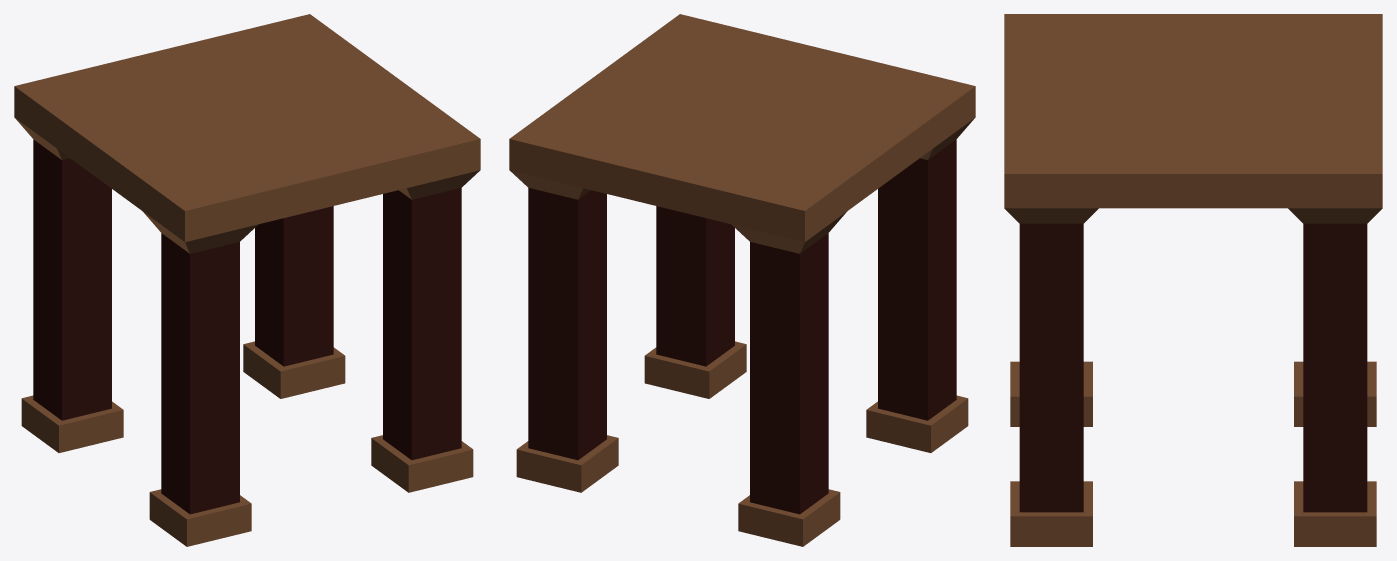
File: Square_Table - Final.fbx
3 renders of one model, left to right at view 1: azimuth 30°, elevation 25°; view 2: azimuth 150°, elevation 25°; view 3: azimuth 270°, elevation 25°, orthographic. The views are drawn at different scales.
Parts seen in each view (by area): view 1: Table_Square; view 2: Table_Square; view 3: Table_Square.
Part boxes in pixels (x1=…): Table_Square: x1=14, y1=14, x2=480, y2=546; Table_Square: x1=509, y1=14, x2=975, y2=546; Table_Square: x1=1004, y1=14, x2=1382, y2=546.
Size of the model in its own units: 120 by 131 by 120.
